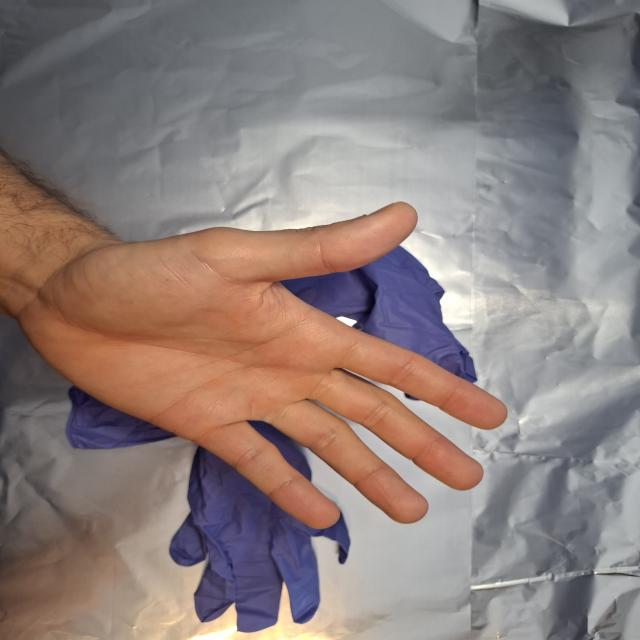glove_off: (20, 200, 510, 530)
